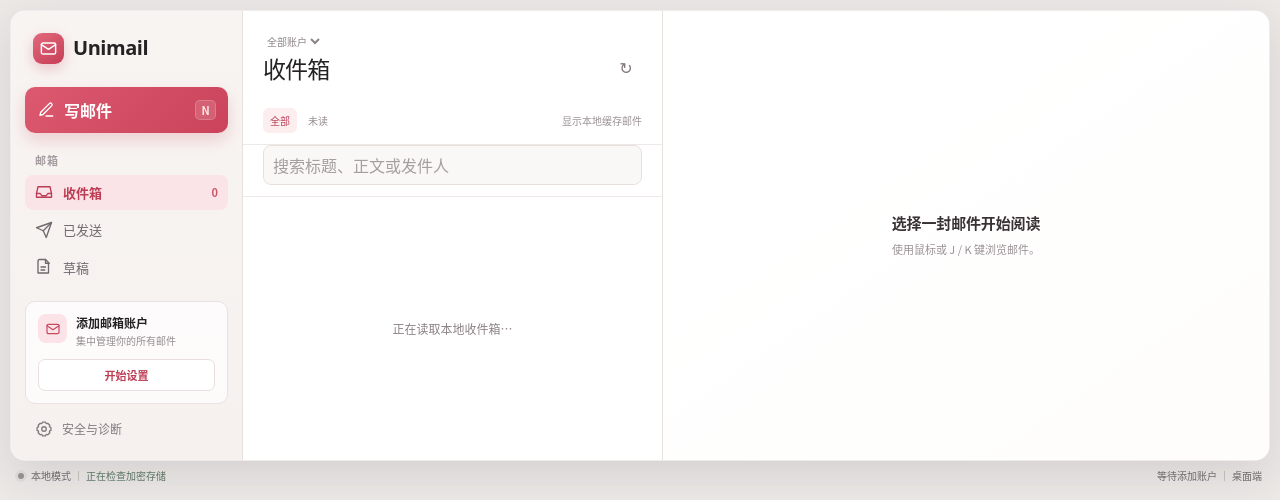
it: Unimail 基础界面 › 同步占位会提供非破坏性的状态反馈
The image size is (1280, 500).
Click the button named "同步邮件".
click(626, 67)  # box [610,51,642,83]
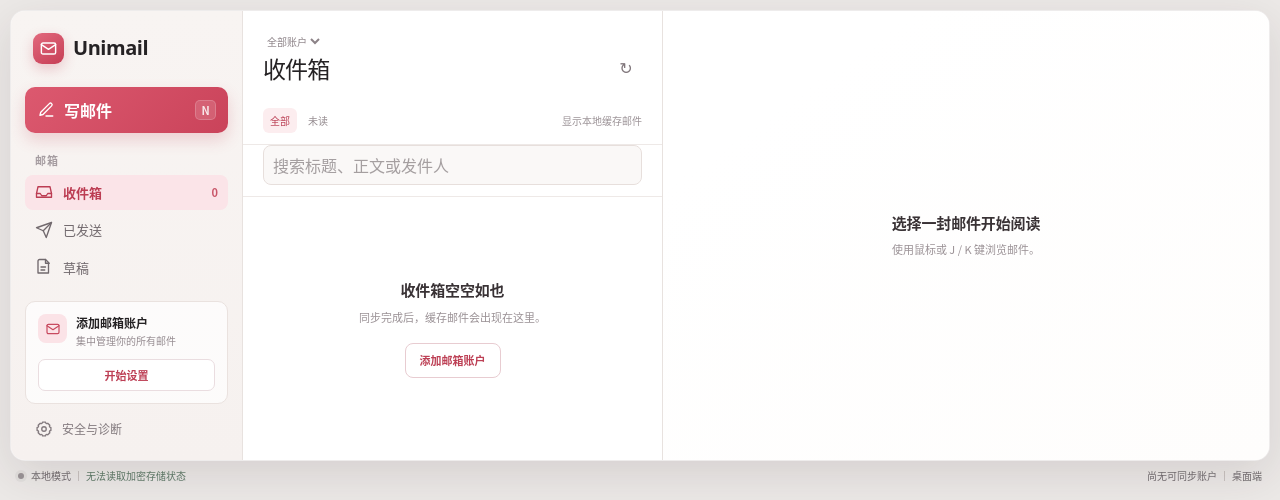
Expected: the text "尚无可同步账户" is shown, [1147,468,1217,483]
